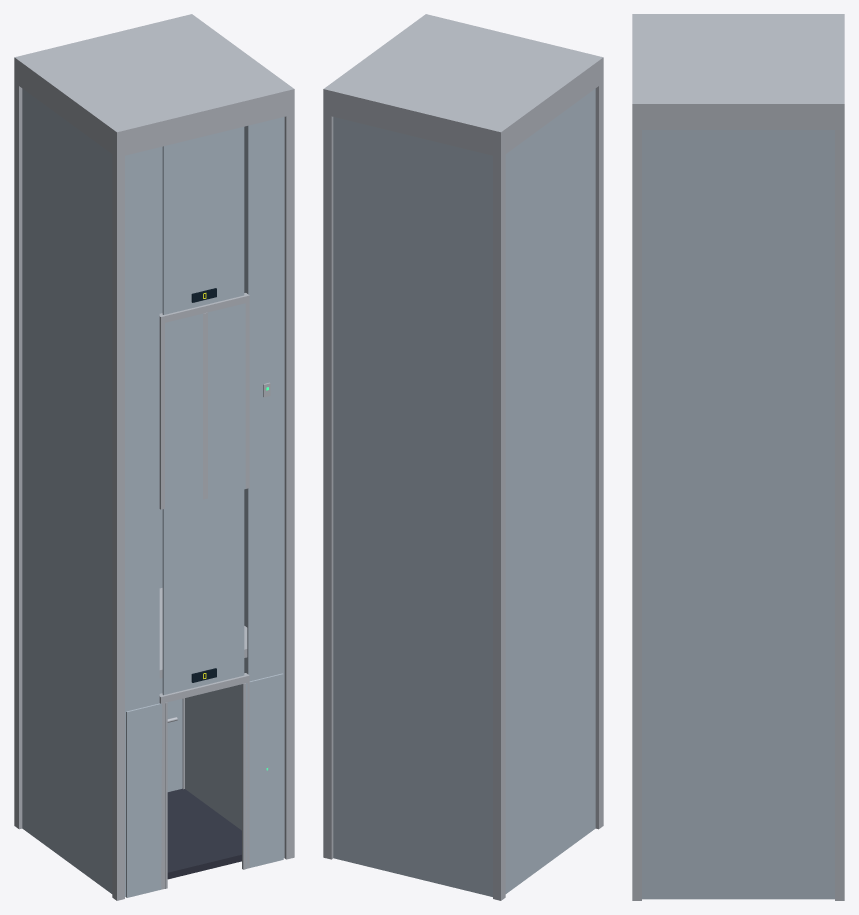
The model's file is str-016.glb.
The picture shows the model from 3 angles, left to right: view 1: azimuth 30°, elevation 25°; view 2: azimuth 150°, elevation 25°; view 3: azimuth 270°, elevation 25°; orthographic projection. The views are drawn at different scales.
Visible parts, largest first — view 1: glass_clear, stainless, dark_steel; view 2: glass_clear, stainless; view 3: glass_clear, stainless.
Part boxes in pixels (bbox=[...]): glass_clear: bbox=[22, 88, 284, 897]; stainless: bbox=[14, 14, 294, 900]; dark_steel: bbox=[167, 788, 241, 879]; glass_clear: bbox=[333, 88, 595, 896]; stainless: bbox=[323, 14, 603, 900]; glass_clear: bbox=[642, 130, 834, 899]; stainless: bbox=[632, 14, 844, 900].
Size of the model in its own units: 2.2 by 9.1 by 2.2.
